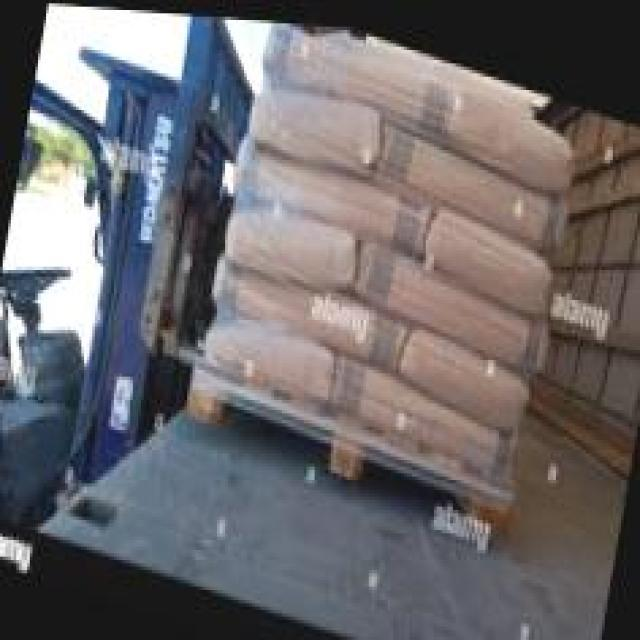gunny_bag: (376, 117, 566, 243), (356, 237, 542, 360), (332, 352, 511, 472), (210, 256, 408, 364), (264, 20, 448, 131), (235, 146, 432, 248), (419, 207, 553, 307), (399, 327, 528, 422), (447, 87, 574, 180), (204, 314, 333, 399), (226, 200, 356, 282), (247, 89, 380, 158)
